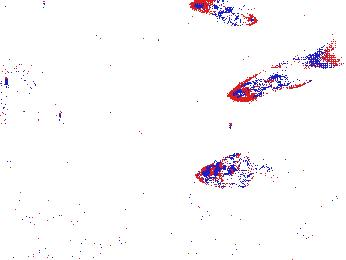X-ray fish: (194, 149, 274, 188), (128, 108, 164, 145)
red belly glassfish: (216, 10, 259, 29), (189, 1, 234, 16), (173, 12, 198, 38)
redtail glassfish: (225, 41, 337, 104)
